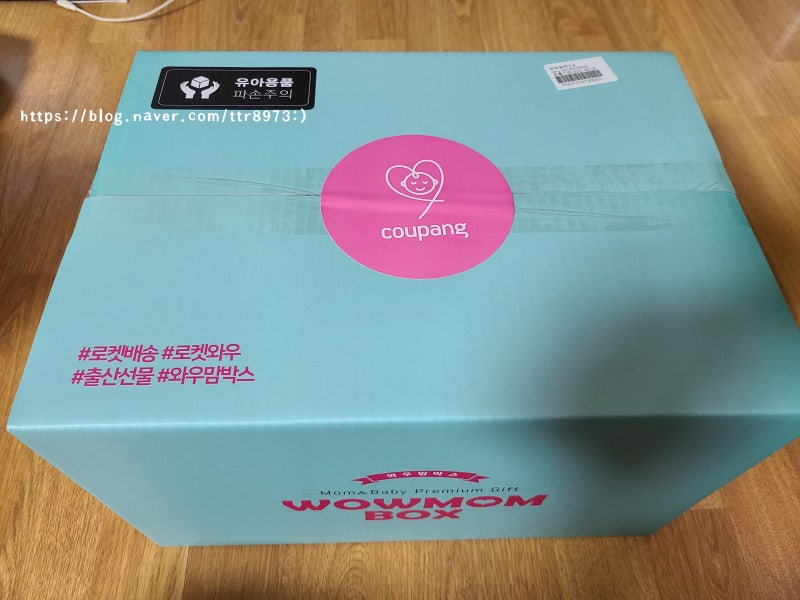undamaged: (4, 52, 799, 553)
